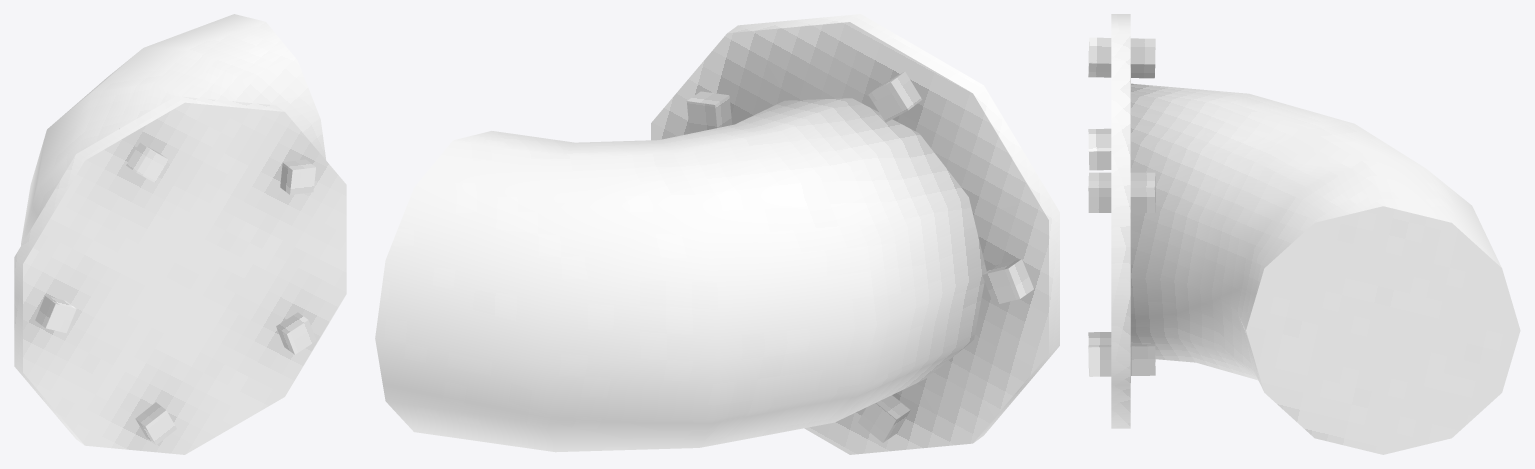
The model's file is PipeCorner.glb.
The picture shows the model from 3 angles, left to right: view 1: azimuth 30°, elevation 25°; view 2: azimuth 150°, elevation 25°; view 3: azimuth 270°, elevation 25°; orthographic projection. The views are drawn at different scales.
Parts seen in each view (by area): view 1: PipeCorner; view 2: PipeCorner; view 3: PipeCorner.
Part boxes in pixels (left/top/right/bottom): PipeCorner: left=14, top=14, right=346, bottom=454; PipeCorner: left=375, top=14, right=1059, bottom=454; PipeCorner: left=1088, top=14, right=1520, bottom=454.
Bounding box in the file's own units: 0.4512 × 0.4124 × 0.4229.
1 material, 1 textured.
